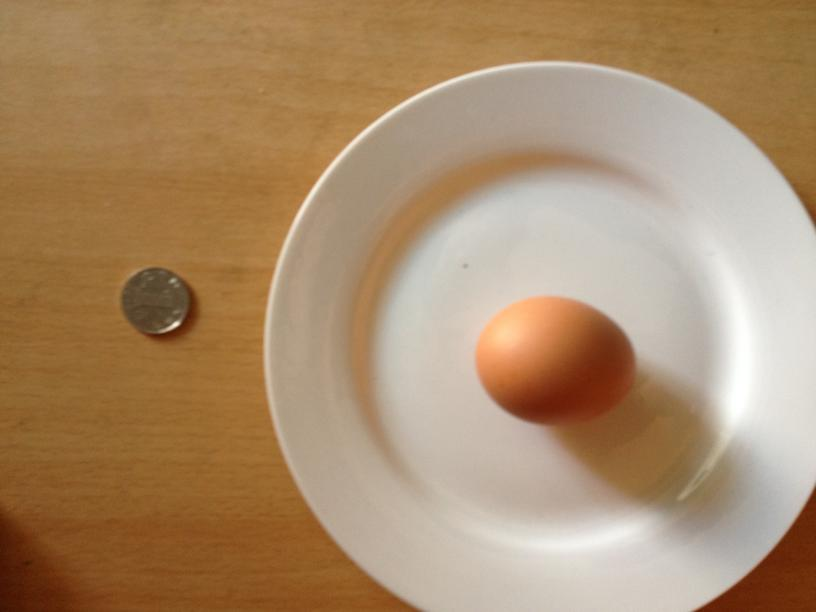coin: (118, 266, 190, 335)
egg: (478, 294, 635, 427)
